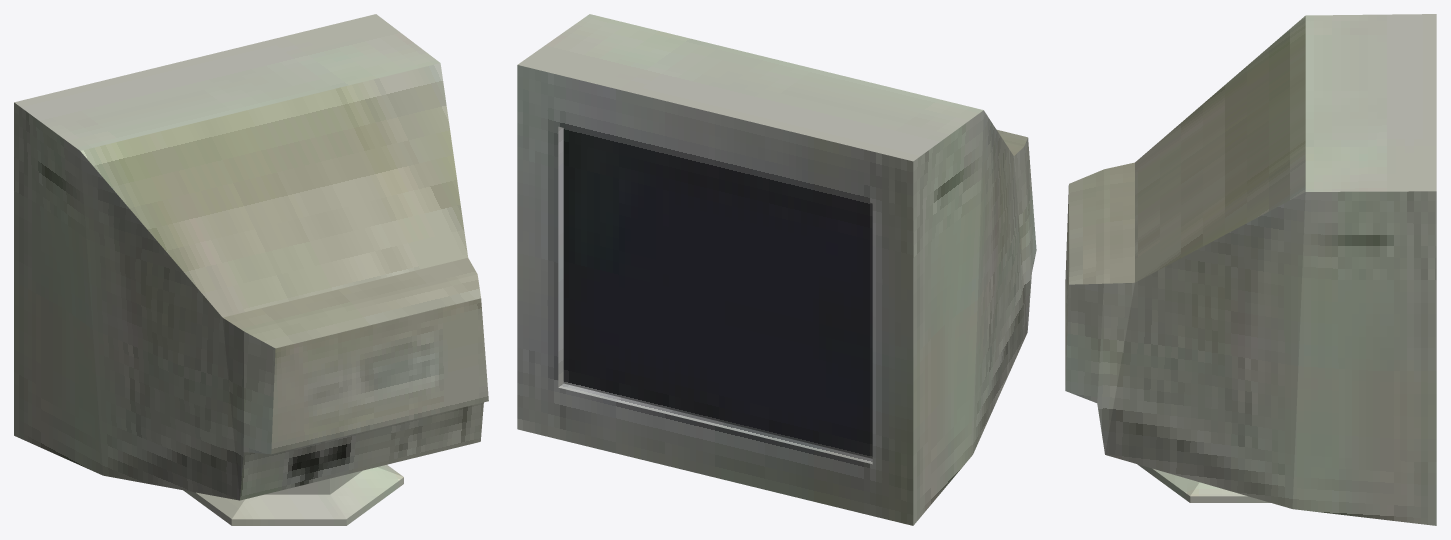
File: office_monitor.glb
3 views of the same model, side by side, from view 1: azimuth 30°, elevation 25°; view 2: azimuth 150°, elevation 25°; view 3: azimuth 270°, elevation 25° (orthographic). The views are drawn at different scales.
Visible parts, largest first — view 1: computer_monitor; view 2: computer_monitor; view 3: computer_monitor.
Part boxes in pixels (x1=…): computer_monitor: x1=14, y1=14, x2=488, y2=525; computer_monitor: x1=517, y1=14, x2=1036, y2=525; computer_monitor: x1=1065, y1=14, x2=1436, y2=525.
Size of the model in its own units: 0.6022 by 0.5673 by 0.5329.
1 material, 1 textured.
